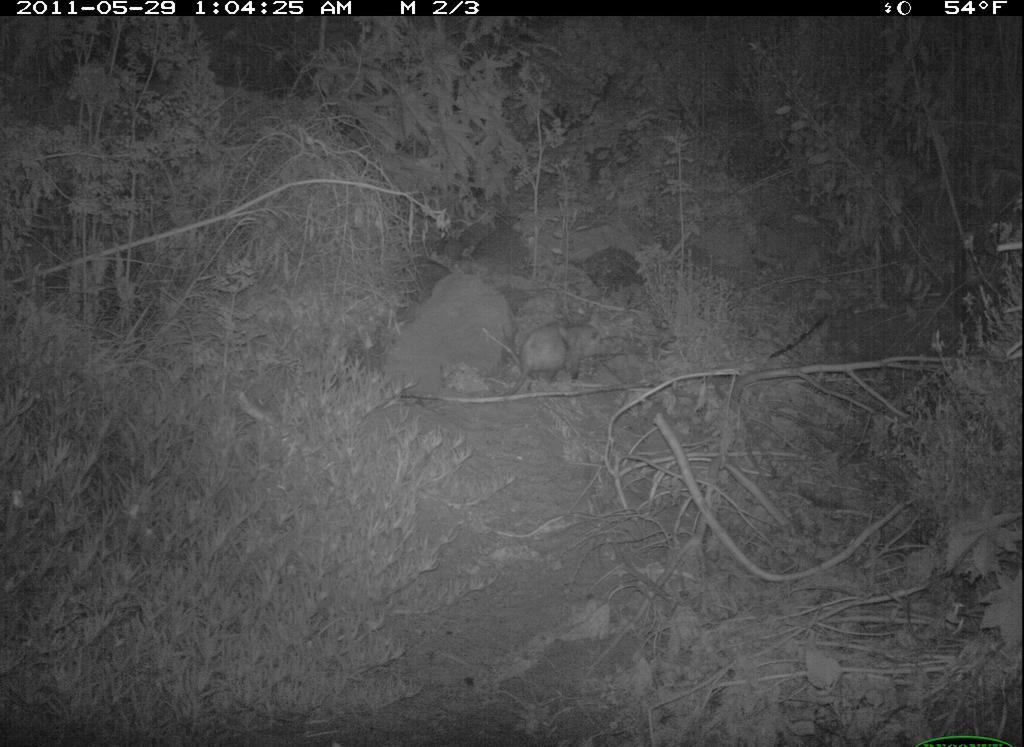opossum: (492, 303, 602, 424)
